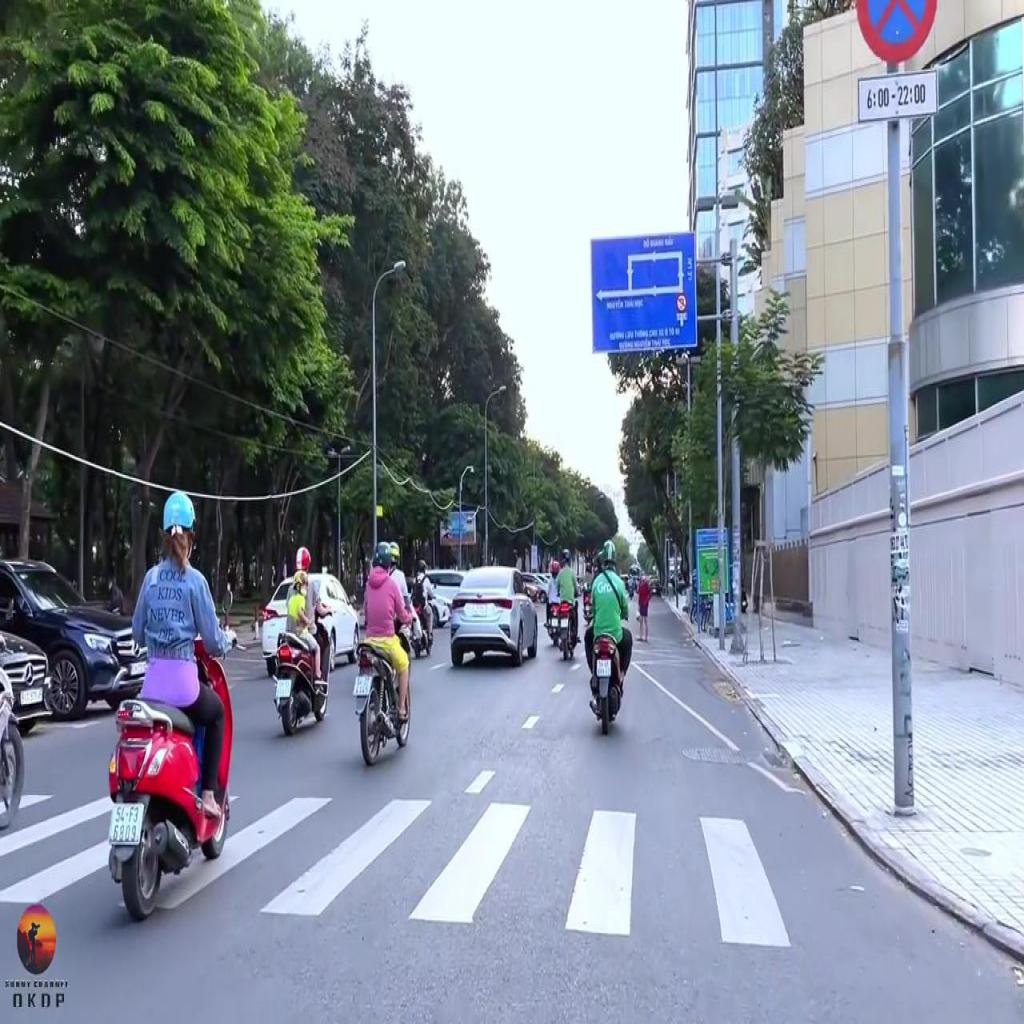cam_dung_xe_va_do_xe: (855, 0, 937, 63)
khac: (590, 232, 696, 353), (858, 74, 937, 121)
